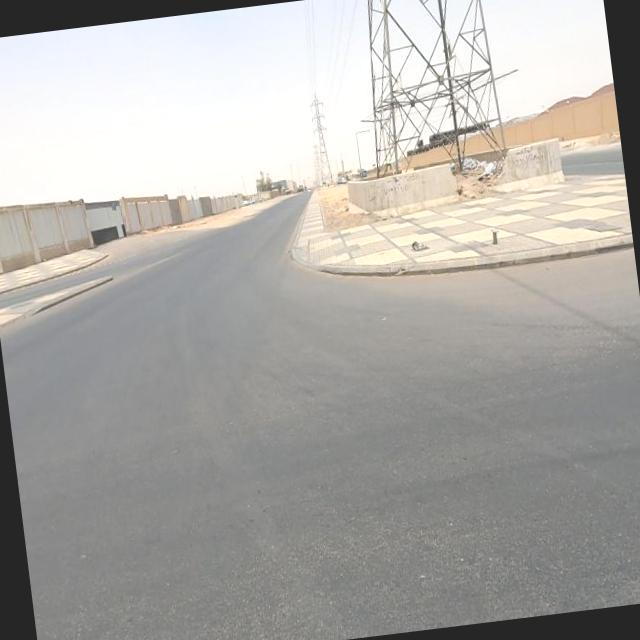debris: (390, 214, 452, 282), (466, 134, 510, 203), (444, 134, 490, 192)
